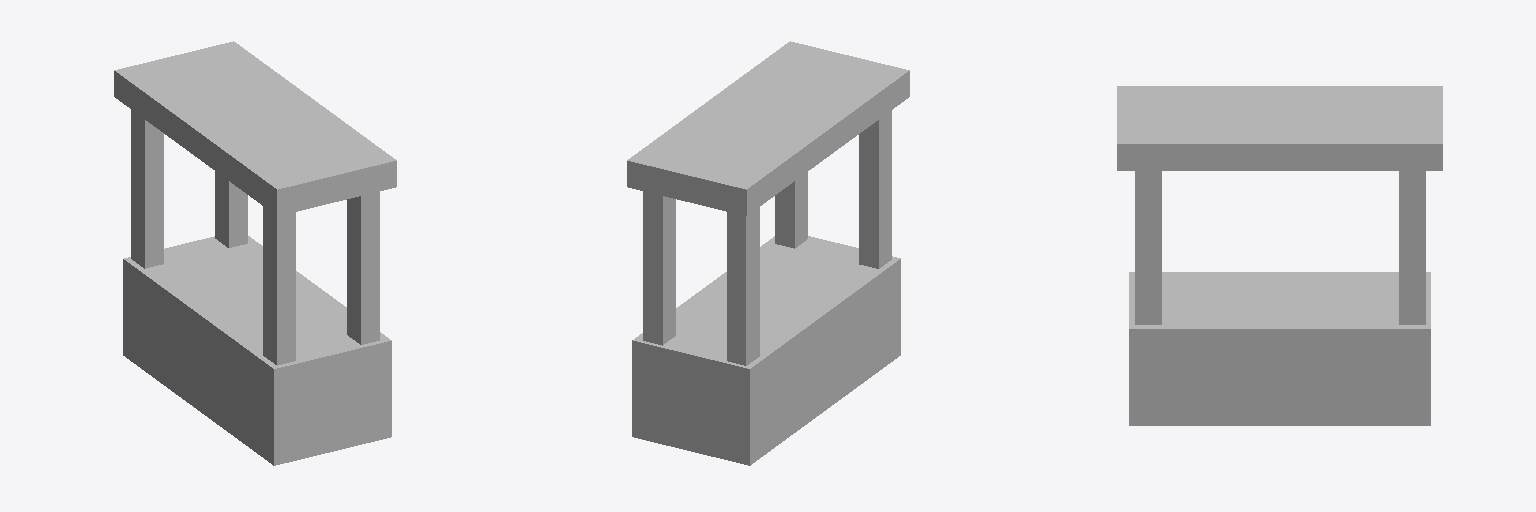
File: puesto de aguas sabroso.obj
3 views of the same model, side by side, from view 1: azimuth 30°, elevation 25°; view 2: azimuth 150°, elevation 25°; view 3: azimuth 270°, elevation 25° (orthographic).
Visible parts, largest first — view 1: Box001, Box006, Box005, Box004, Box002, Box003; view 2: Box001, Box006, Box002, Box003, Box005, Box004; view 3: Box001, Box006, Box003, Box004.
Boxes of the visible parts, box(x1,y1,x2,y2) form: Box001: box(123, 236, 391, 465); Box006: box(114, 41, 396, 215); Box005: box(263, 206, 295, 365); Box004: box(347, 192, 379, 344); Box002: box(131, 110, 163, 268); Box003: box(215, 171, 247, 247); Box001: box(632, 236, 900, 465); Box006: box(627, 41, 909, 215); Box002: box(727, 207, 759, 365); Box003: box(643, 191, 675, 345); Box005: box(859, 110, 891, 268); Box004: box(775, 172, 807, 248); Box001: box(1129, 272, 1430, 425); Box006: box(1117, 86, 1442, 170); Box003: box(1399, 171, 1425, 324); Box004: box(1135, 171, 1161, 324).
Bounding box in the file's own units: 5.75 × 12.85 × 13.5.